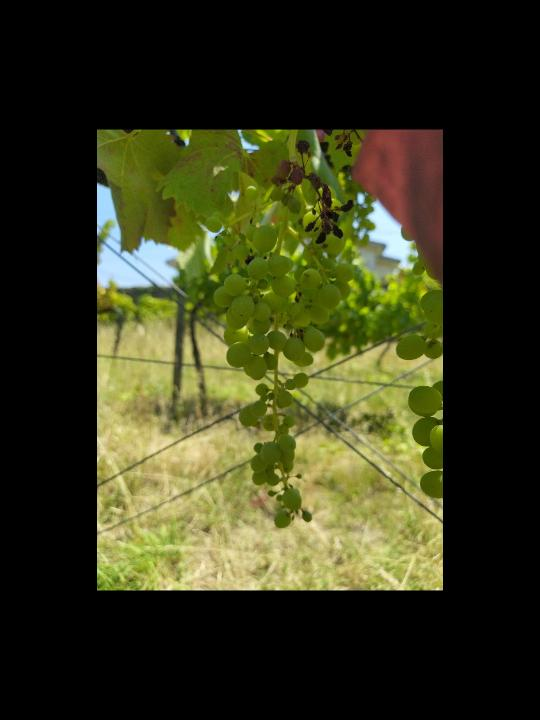grape: (203, 184, 355, 529), (269, 132, 374, 243)
